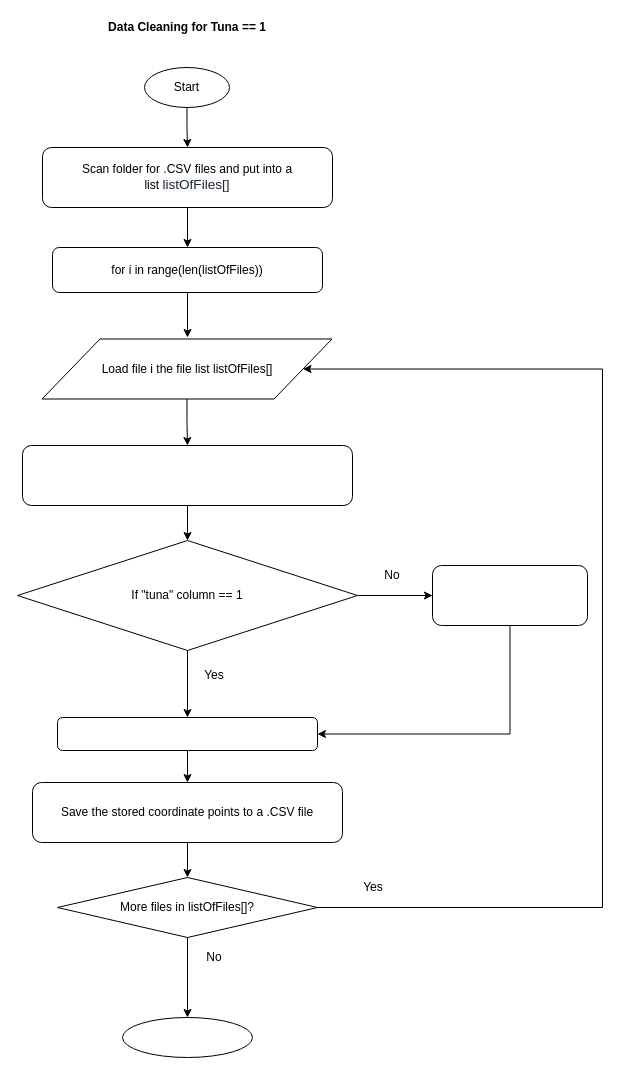
This 628x1075 diagram has some shape labels left out. The centre of each missing label's shape, as x and y in pixels:
Check if current file's "tuna" column == 1: point 187,475
Don't store coordinate data that have "tuna" == 0: point 510,595
End: point 187,1037
Store coordinate data that have "tuna" == 1: point 187,733
